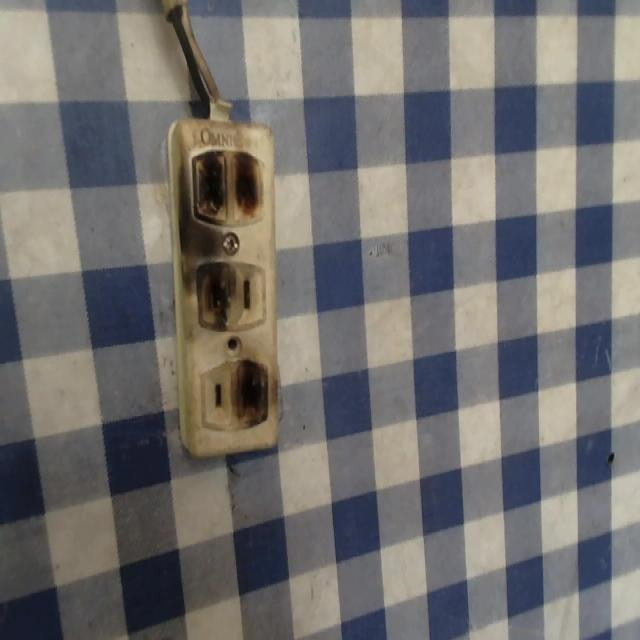-: (188, 144, 275, 228), (228, 353, 276, 435), (189, 252, 234, 339)
